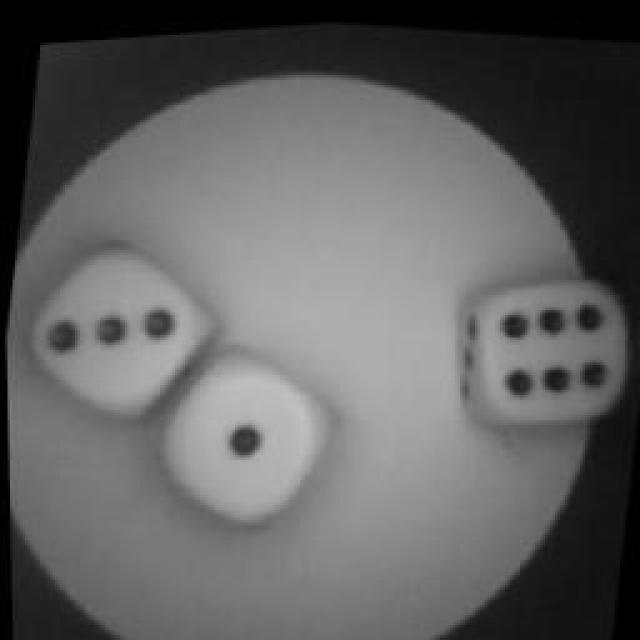dice_1: (150, 325, 350, 545)
dice_3: (15, 207, 225, 435)
dice_6: (443, 255, 635, 463)
